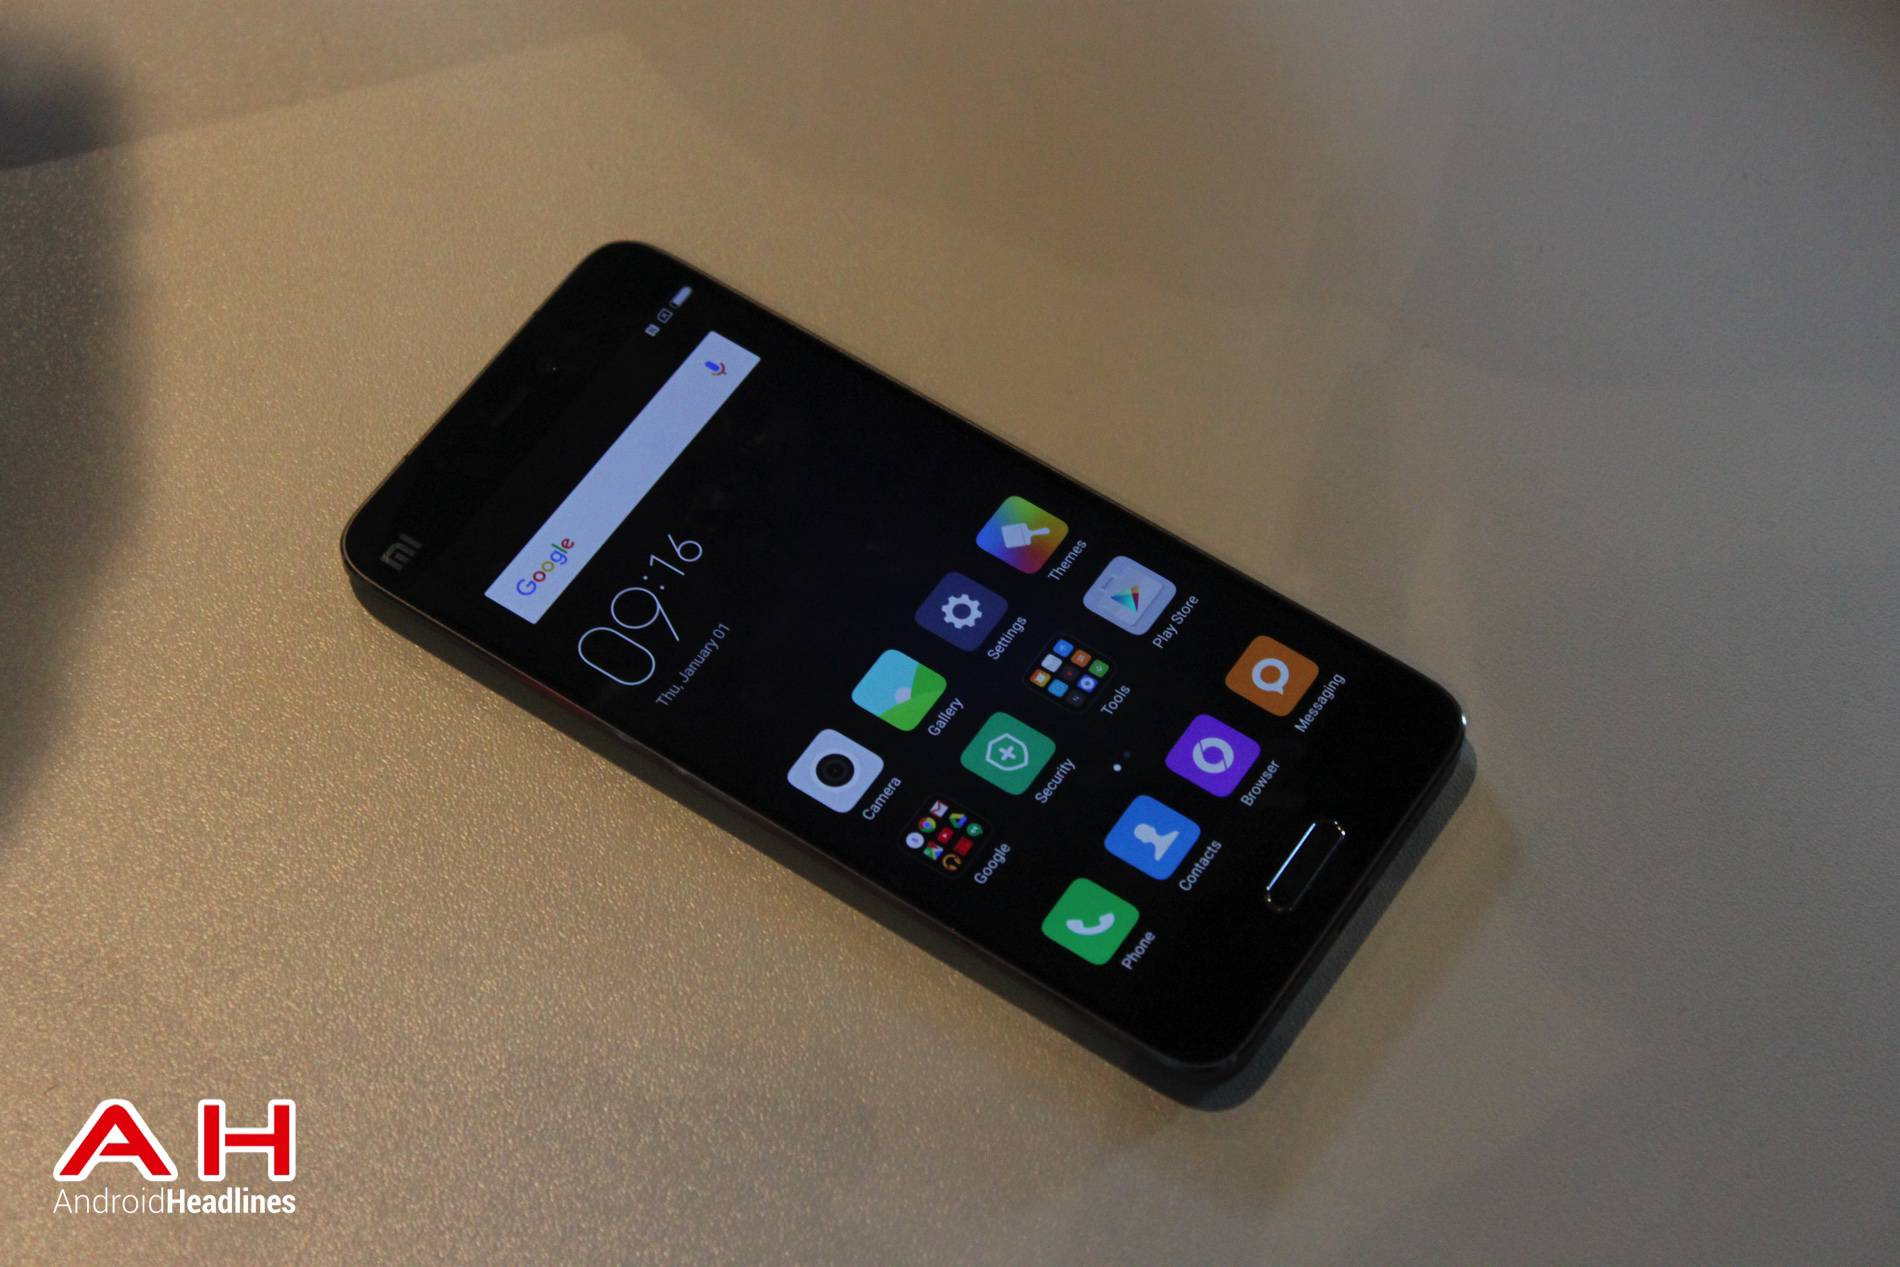smartphone: (341, 238, 1467, 1102)
